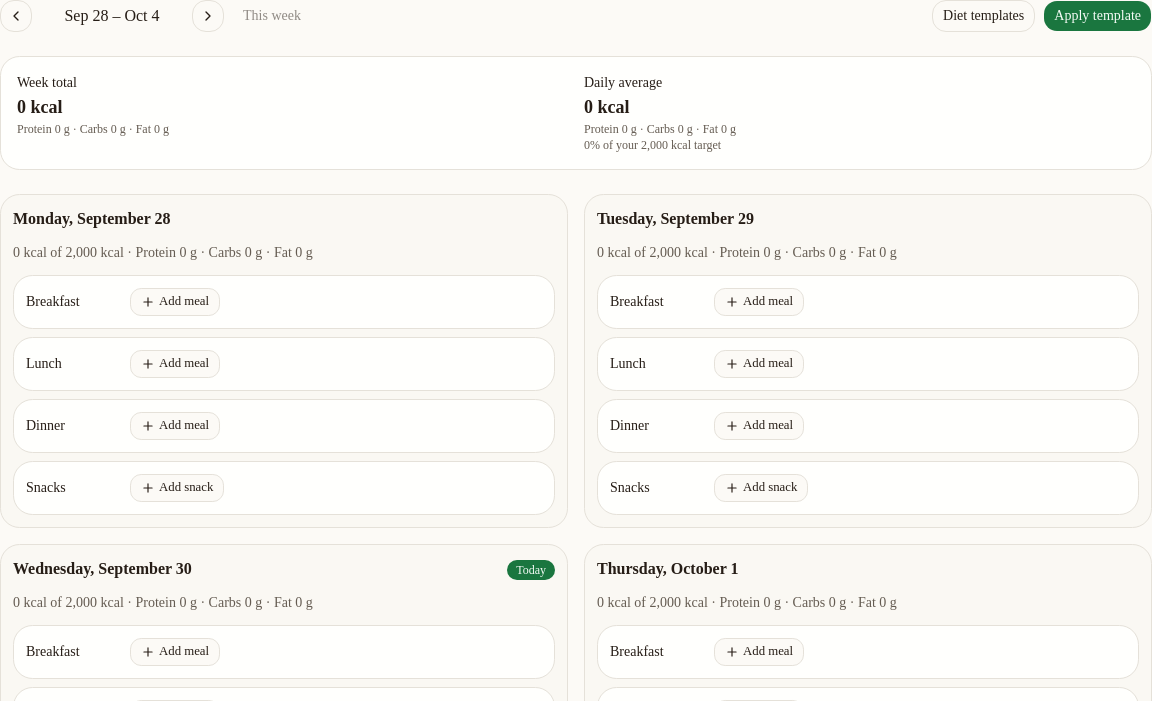
Scenario: applying a template › asks before replacing, and leaves the plan alone when the person keeps it
The image size is (1152, 701).
Check: the text "Sep 28 – Oct 4" is shown, box [64, 7, 160, 24]
Click the button "Apply template".
click(1098, 16)  # box [1043, 0, 1151, 32]
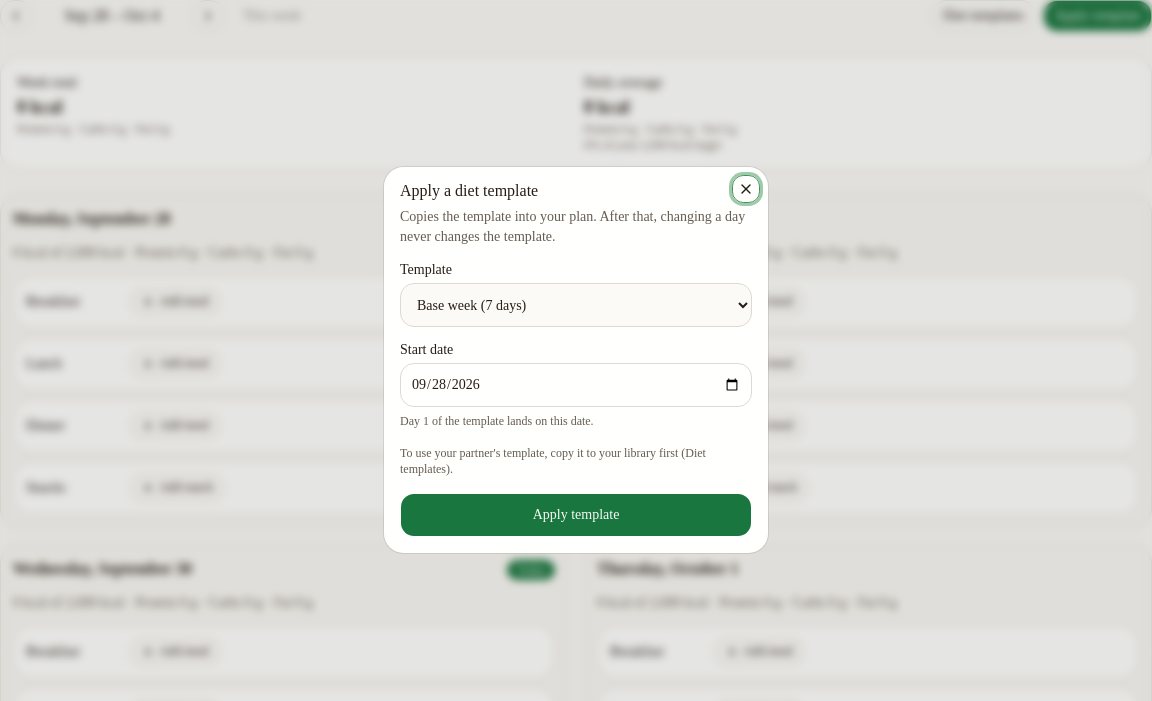
Click the button "Apply template".
click(576, 515)  # box [400, 493, 752, 537]
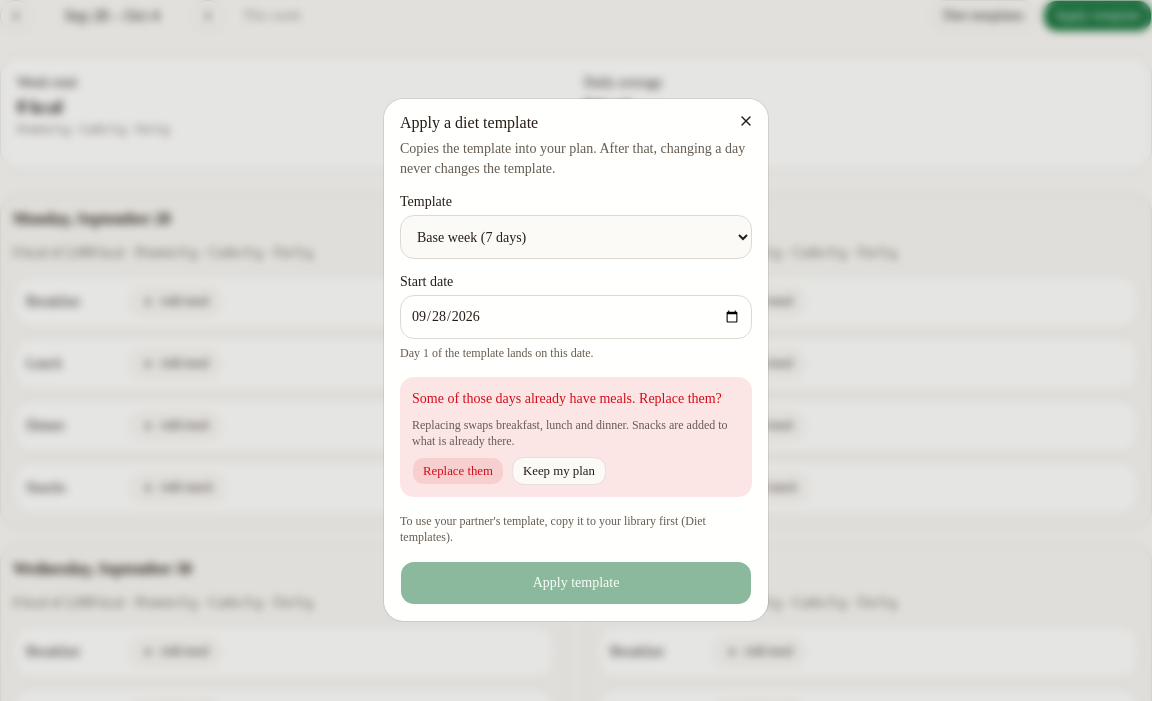
Check: the text "Some of those days already have meals. Replace them?" is shown, box [412, 389, 740, 409]
Click the button "Keep my plan".
click(559, 471)  # box [512, 457, 606, 485]
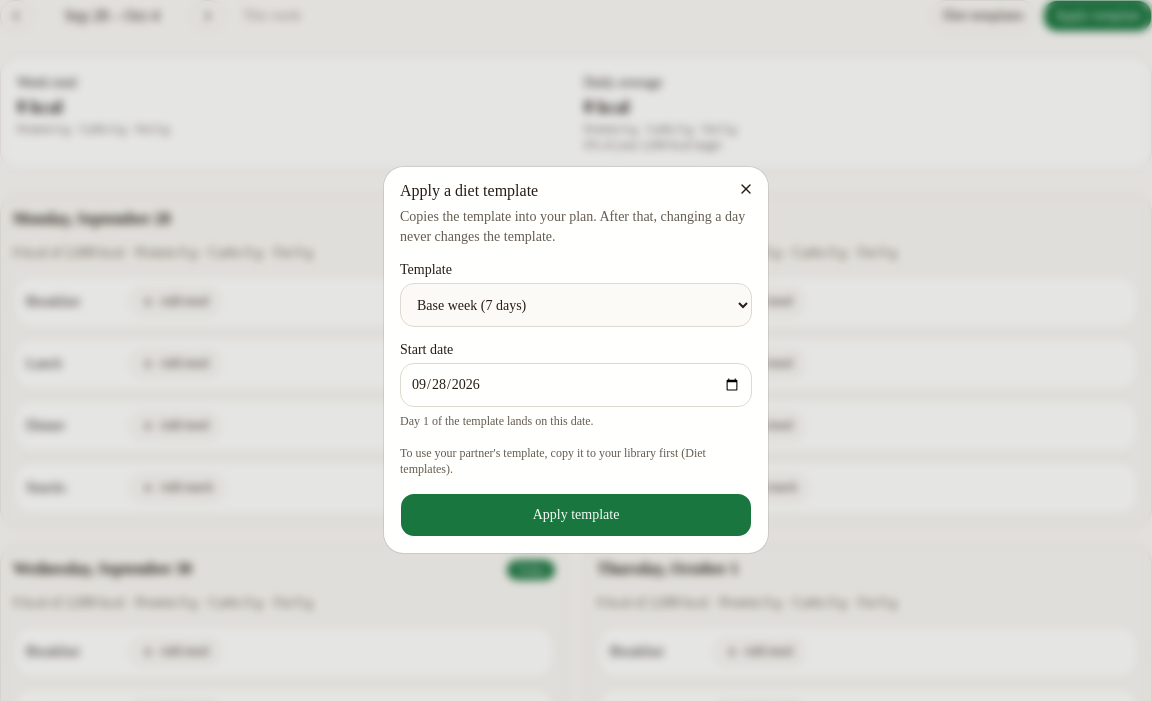
Check: the dialog "Apply a diet template" is shown, box [384, 167, 768, 553]
Check: the text "Replace them?" is gone
